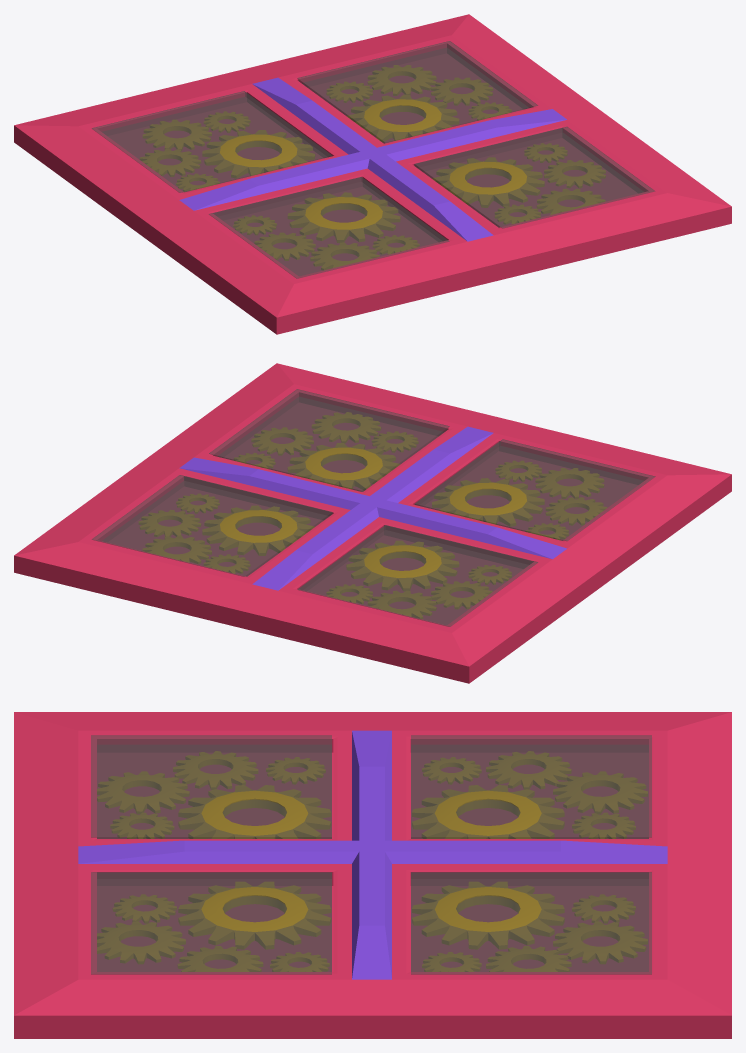
File: FloorV1UVID.fbx
3 renders of one model, top to bottom at view 1: azimuth 30°, elevation 25°; view 2: azimuth 150°, elevation 25°; view 3: azimuth 270°, elevation 25°, orthographic. The views are drawn at different scales.
Parts seen in each view (by area): view 1: Floor, Window.001, Gears.021; view 2: Floor, Window.001, Gears.021; view 3: Floor, Window.001, Gears.021.
Part boxes in pixels (x1,y1,x2,y2): Floor: (14,14,731,334); Window.001: (92,41,654,278); Gears.021: (140,65,605,269); Floor: (14,363,731,683); Window.001: (92,389,655,626); Gears.021: (139,412,606,618); Floor: (14,712,731,1038); Window.001: (91,735,651,974); Gears.021: (97,751,647,971).
Bounding box in the file's own units: 1839 × 116 × 1839.
